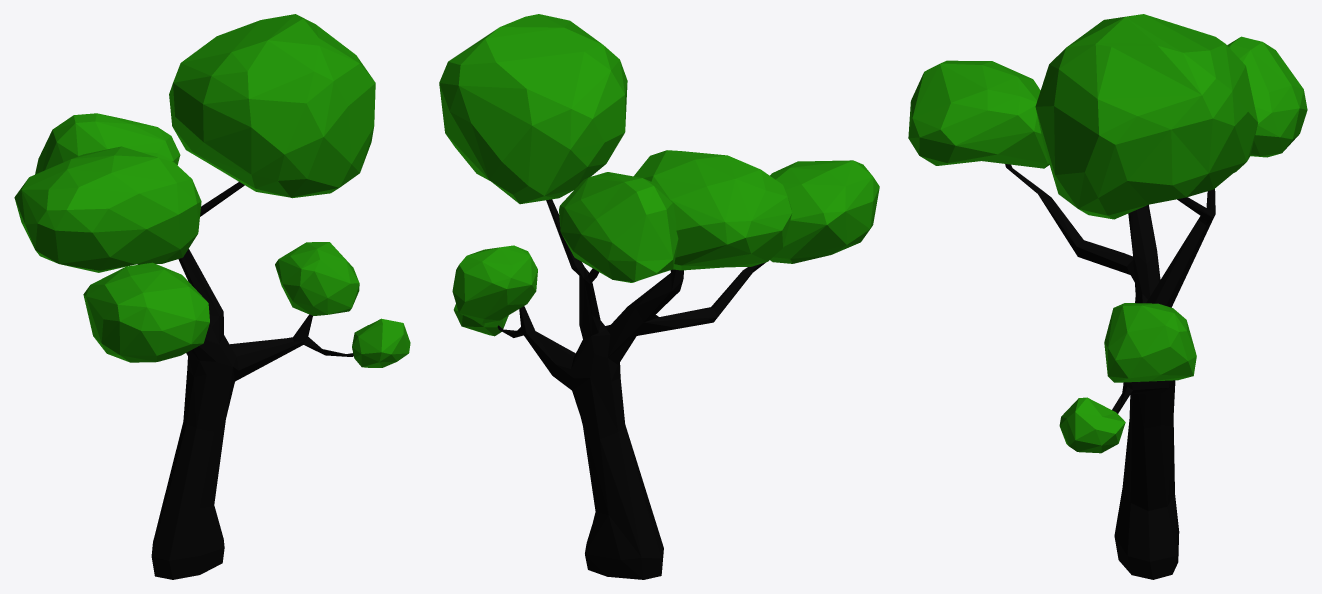
File: Tree01_JT.fbx
3 renders of one model, left to right at view 1: azimuth 30°, elevation 25°; view 2: azimuth 150°, elevation 25°; view 3: azimuth 270°, elevation 25°, orthographic. The views are drawn at different scales.
Parts seen in each view (by area): view 1: Tree01_JT; view 2: Tree01_JT; view 3: Tree01_JT.
Part boxes in pixels (bbox=[...]): Tree01_JT: bbox=[14, 14, 410, 579]; Tree01_JT: bbox=[439, 14, 879, 579]; Tree01_JT: bbox=[908, 14, 1307, 579].
Size of the model in its own units: 348 by 489 by 298.
